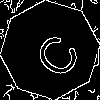C: (25, 25, 84, 82)
